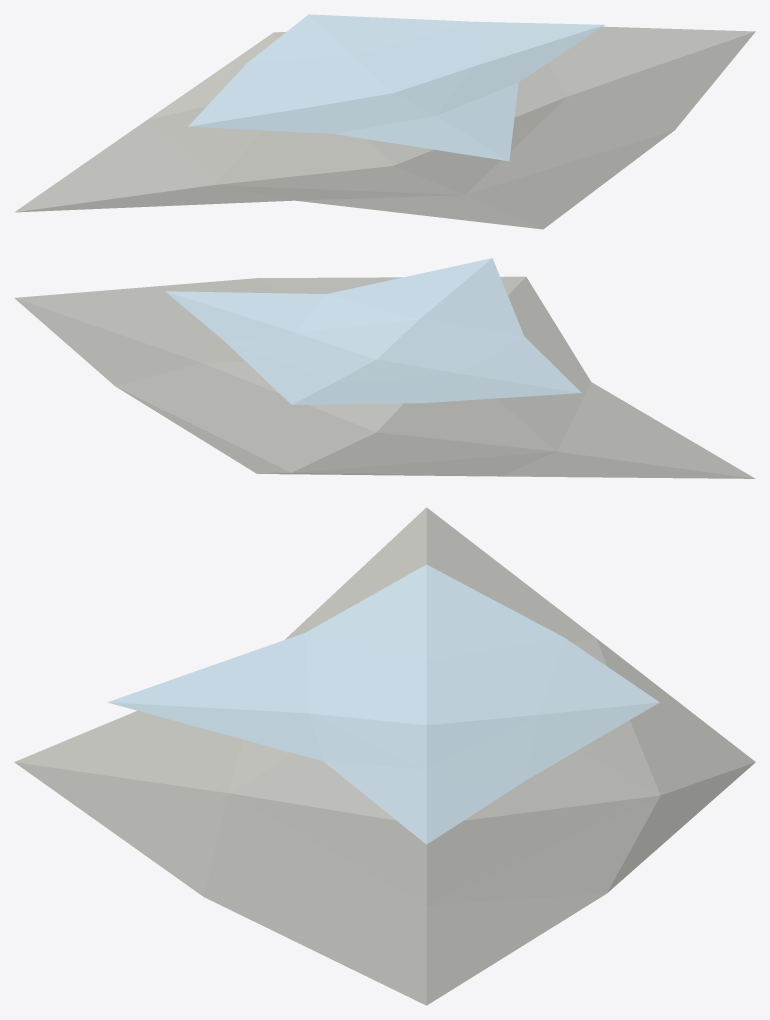
File: puddle_stone_v43.glb
3 views of the same model, one above another, from view 1: azimuth 30°, elevation 25°; view 2: azimuth 150°, elevation 25°; view 3: azimuth 270°, elevation 25° (orthographic). The views are drawn at different scales.
Visible parts, largest first — view 1: lod0; view 2: lod0; view 3: lod0.
Part boxes in pixels (left/top/right/bottom): lod0: left=14, top=14, right=755, bottom=229; lod0: left=14, top=258, right=755, bottom=478; lod0: left=14, top=507, right=755, bottom=1005.
Size of what is drawn, in the model's own units: 1.25 by 0.1772 by 0.7878.
